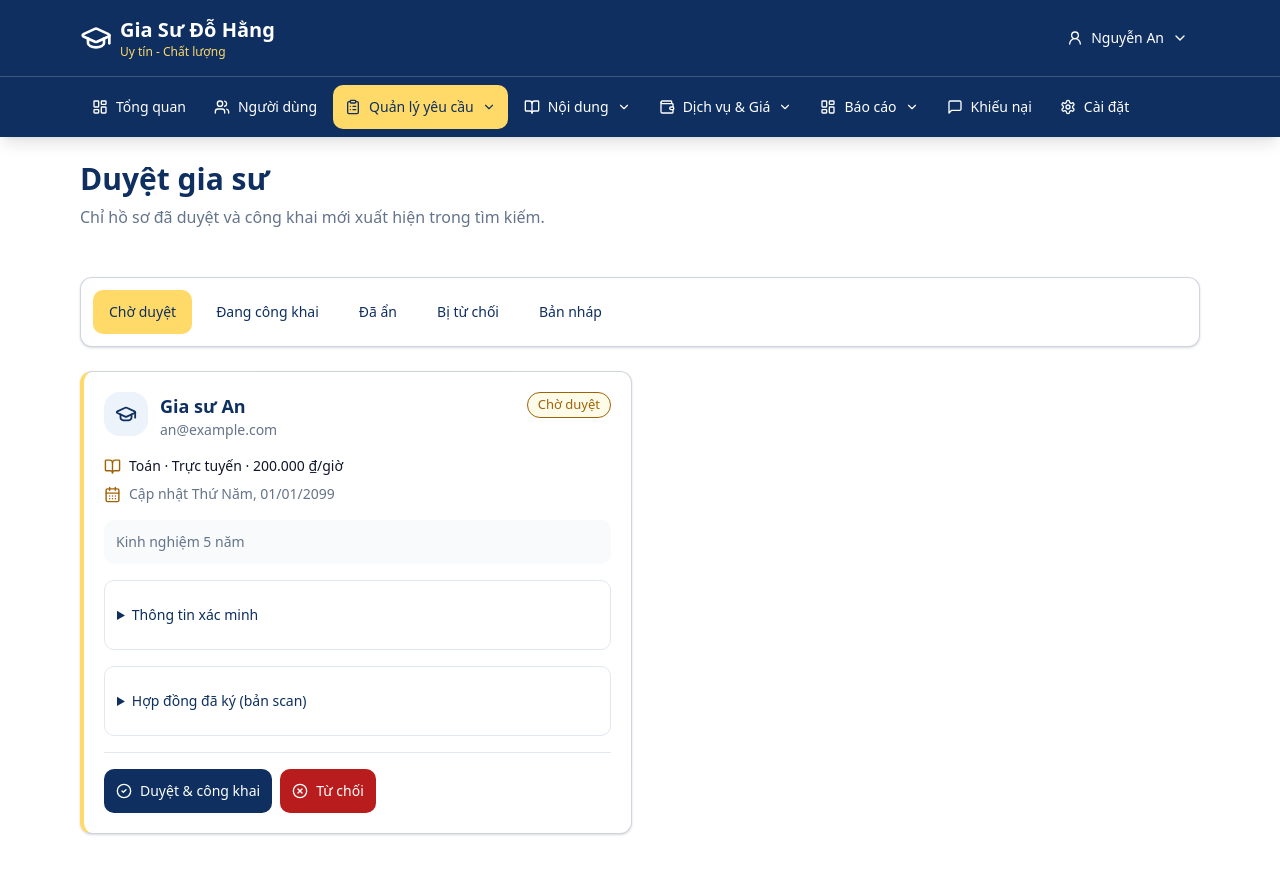
Scenario: AdminTutorsPage › approves after confirmation
Click the button "Duyệt & công khai".
click(188, 791)  # box x1=104 y1=769 x2=272 y2=813
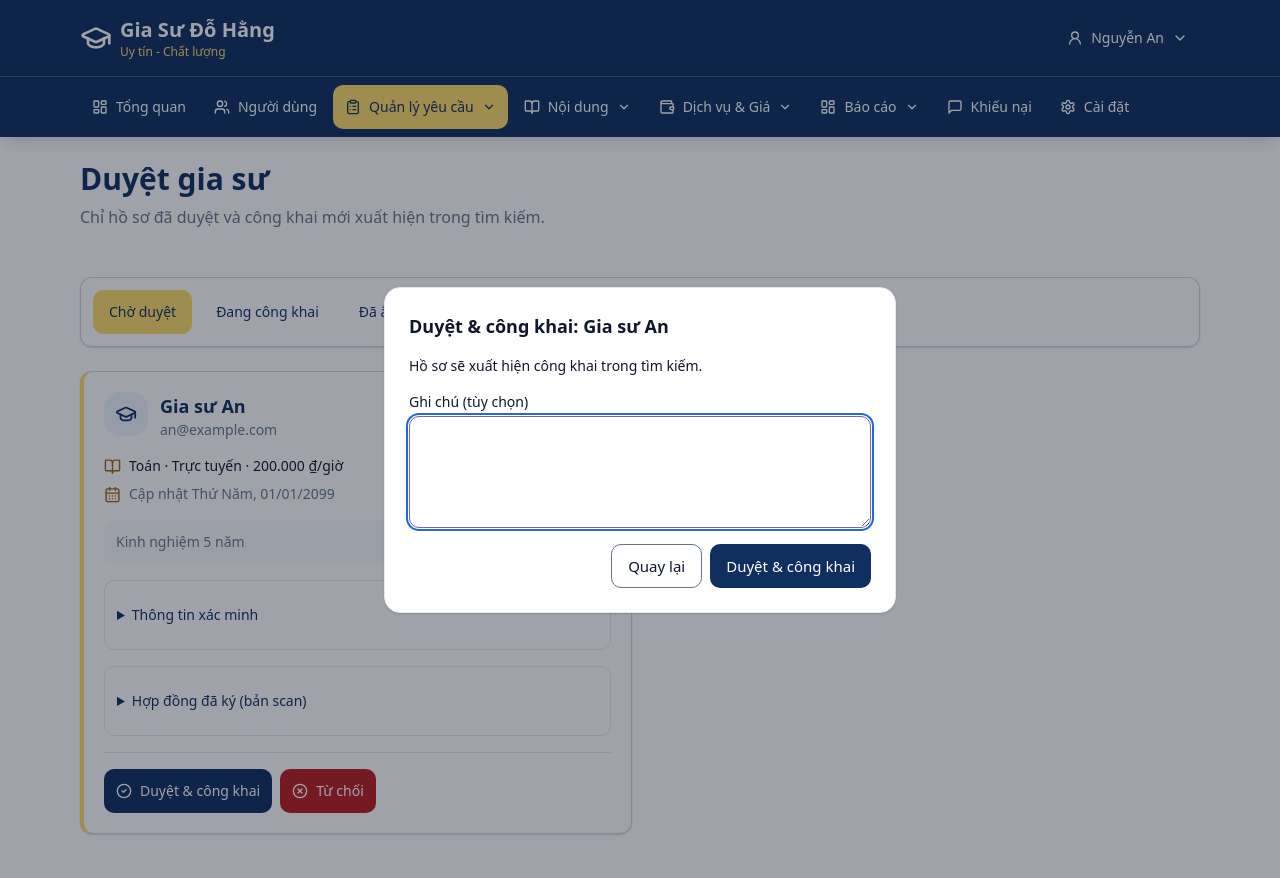
Click the button "Duyệt & công khai".
click(791, 566)  # box x1=710 y1=544 x2=871 y2=588
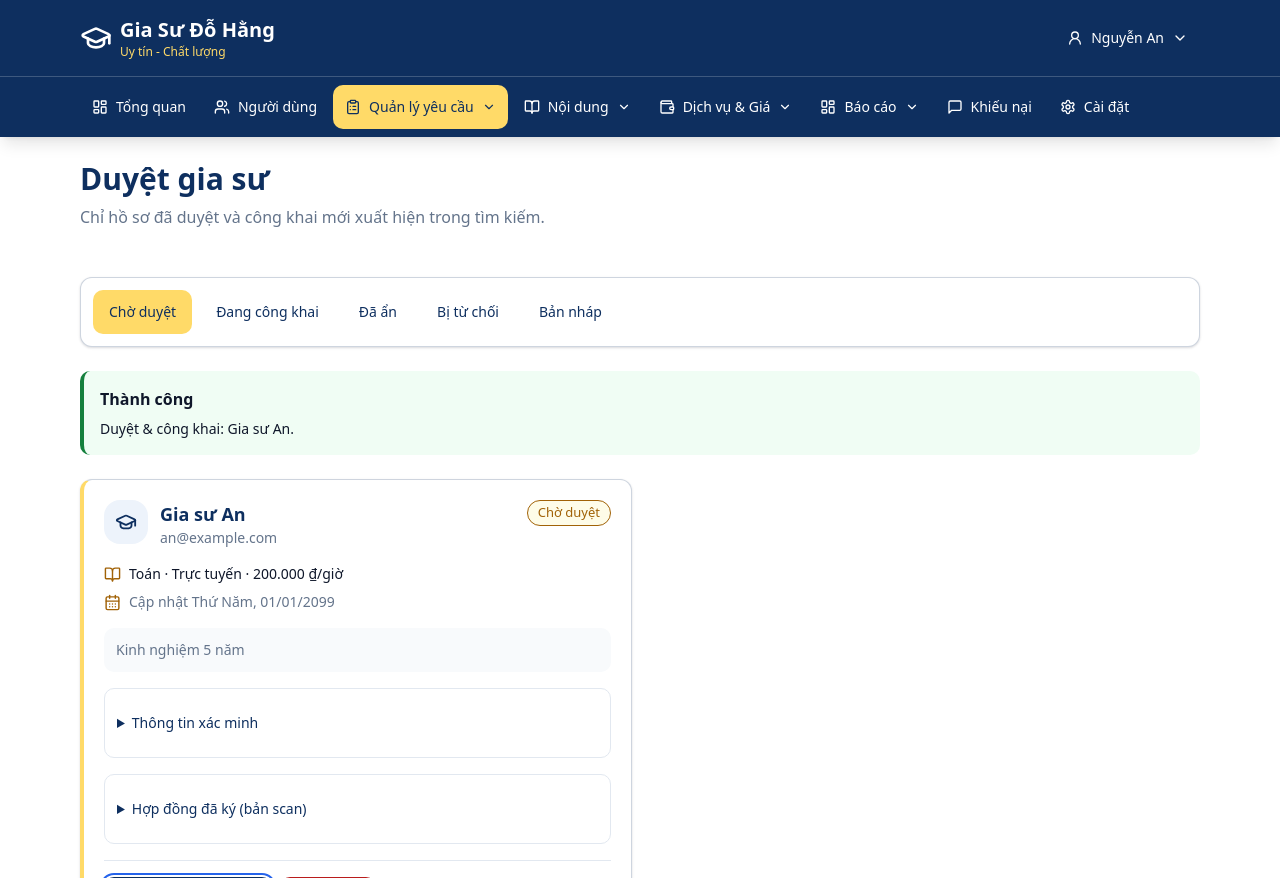
expect the text "Duyệt & công khai: Gia sư An." is shown: met, box x1=100 y1=419 x2=294 y2=438
